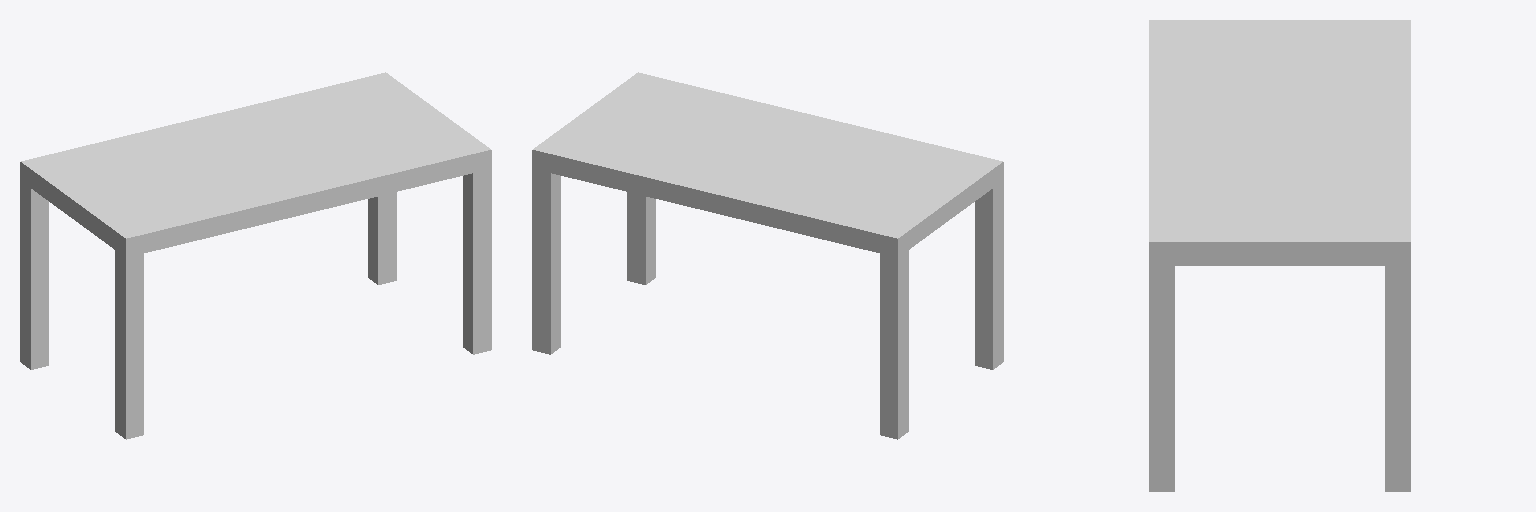
robot.urdf — work_table:
<?xml version="1.0" ?>
<robot name="work_table" version="1.0">
  <link name="map"/>
  <joint name="table_joint" type="fixed">
    <origin xyz="0.0 0.0 0.0" rpy="0.0 0.0 0.0"/>
    <parent link="map"/>
    <child link="table"/>
  </joint>
  <link name="table">
    <inertial>
      <origin xyz="0.0 0.0 -0.20000000298023224" rpy="3.1415927410125732 -1.570796251296997 0.0"/>
      <mass value="10.0"/>
      <inertia ixx="6.926666736602783" ixy="0.0" ixz="0.0" iyy="6.551666736602783" iyz="0.0" izz="2.251666784286499"/>
    </inertial>
    <visual name="Geom_1">
      <origin xyz="0.0 0.0 0.0" rpy="0.0 0.0 0.0"/>
      <geometry>
        <box size="2.0 1.0 0.10000000149011612"/>
      </geometry>
      <material name="White">
        <color rgba="0.9 0.9 0.9 1.0"/>
      </material>
    </visual>
    <visual name="Geom_2">
      <origin xyz="0.949999988079071 0.44999998807907104 -0.5" rpy="0.0 0.0 0.0"/>
      <geometry>
        <box size="0.10000000149011612 0.10000000149011612 1.0"/>
      </geometry>
      <material name="White">
        <color rgba="0.9 0.9 0.9 1.0"/>
      </material>
    </visual>
    <visual name="Geom_3">
      <origin xyz="-0.949999988079071 0.44999998807907104 -0.5" rpy="0.0 0.0 0.0"/>
      <geometry>
        <box size="0.10000000149011612 0.10000000149011612 1.0"/>
      </geometry>
      <material name="White">
        <color rgba="0.9 0.9 0.9 1.0"/>
      </material>
    </visual>
    <visual name="Geom_4">
      <origin xyz="0.949999988079071 -0.44999998807907104 -0.5" rpy="0.0 0.0 0.0"/>
      <geometry>
        <box size="0.10000000149011612 0.10000000149011612 1.0"/>
      </geometry>
      <material name="White">
        <color rgba="0.9 0.9 0.9 1.0"/>
      </material>
    </visual>
    <visual name="Geom_5">
      <origin xyz="-0.949999988079071 -0.44999998807907104 -0.5" rpy="0.0 0.0 0.0"/>
      <geometry>
        <box size="0.10000000149011612 0.10000000149011612 1.0"/>
      </geometry>
      <material name="White">
        <color rgba="0.9 0.9 0.9 1.0"/>
      </material>
    </visual>
  </link>
</robot>

--- What the picture shows (computed from the rendered views, not written in the file) ---
Views: 3 orthographic renders of the robot side by side, from view 1: azimuth 30°, elevation 25°; view 2: azimuth 150°, elevation 25°; view 3: azimuth 270°, elevation 25°.
Model work_table with 2 links and 1 joints (1 fixed), rooted at map, posed all joints at 0.
Visible links, largest first — view 1: table; view 2: table; view 3: table.
Link boxes in pixels (x1=…): table: x1=20, y1=72, x2=491, y2=439; table: x1=532, y1=72, x2=1003, y2=439; table: x1=1149, y1=20, x2=1410, y2=491.
Size in the robot's own frame: 2 by 1 by 1.05 metres.
Geometry: primitives only (box / cylinder / sphere), no mesh files.
